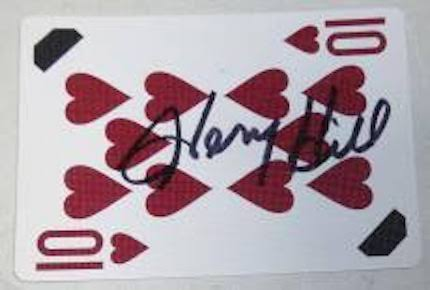TenOfHearts: (10, 6, 424, 280)
